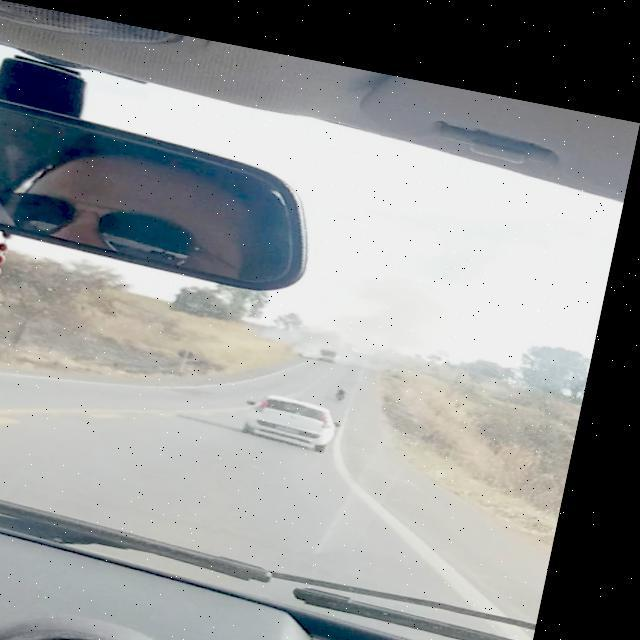Fire: (268, 306, 382, 352)
